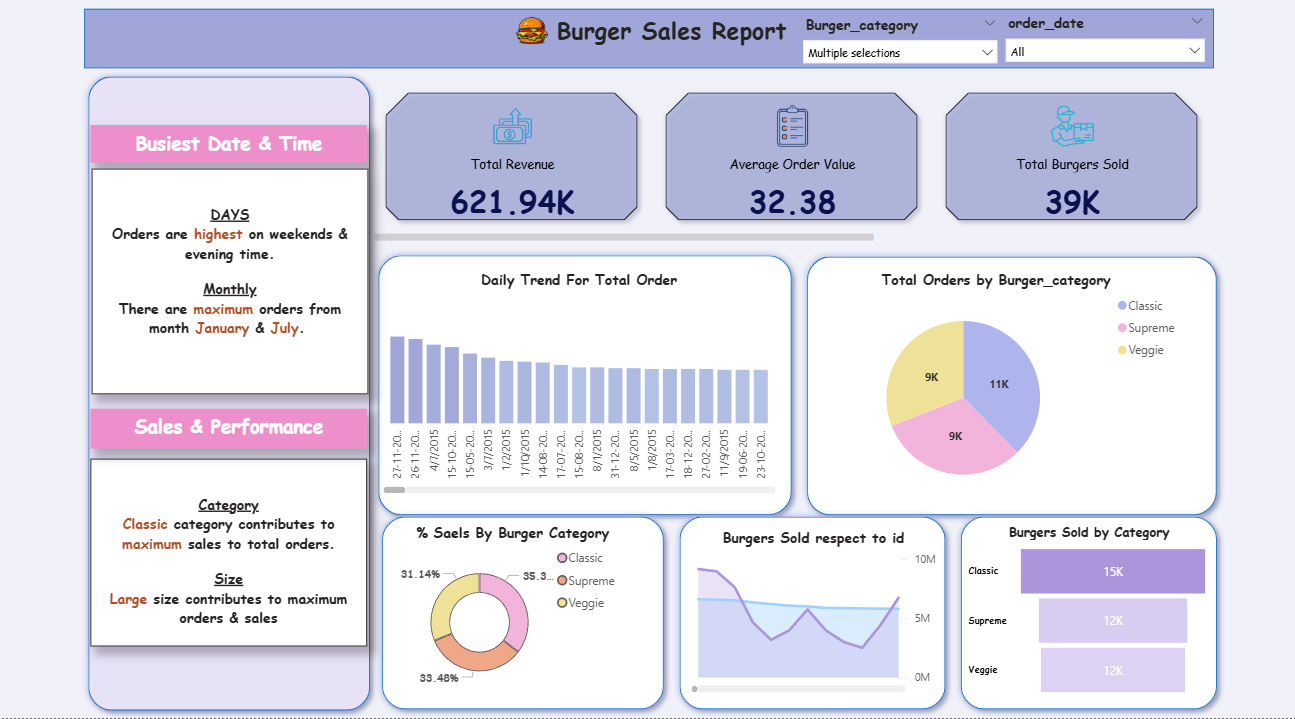

The dashboard page shown, as its layout file describes it:
{"tool":"powerbi","page":{"name":"Page 1","canvas":[1500,820],"ordinal":0},"visuals":[{"type":"cardVisual","fields":{"Data":["burger_sales burger_sales.Total Revenue","burger_sales burger_sales.Average Order Value","burger_sales burger_sales.Total Burgers Sold","burger_sales burger_sales.Total Orders","burger_sales burger_sales.Avg Burgers Per Order"]},"box":[431.7,89.1,963.7,193.6],"z":0},{"type":"shape","box":[104.5,9.7,1291,68.2],"z":1000},{"type":"textbox","box":[635.1,9.7,279.9,58.5],"z":2000},{"type":"image","box":[399.7,9.7,431.7,50.1],"z":3000},{"type":"shape","box":[431.7,282.7,490.2,314.7],"z":4000},{"type":"clusteredColumnChart","title":"Daily Trend For Total Order","fields":{"Category":["burger_sales burger_sales.order_date"],"Y":["burger_sales burger_sales.Total Orders"]},"box":[440.1,309.2,459.6,260.4],"z":5000},{"type":"shape","box":[921.9,284.1,486,313.4],"z":6000},{"type":"pieChart","fields":{"Y":["burger_sales burger_sales.Total Orders"],"Category":["burger_sales burger_sales.Burger_category"]},"box":[928.9,309.2,435.9,270.2],"z":7000},{"type":"shape","box":[435.9,582.1,339.8,238.1],"z":8000},{"type":"donutChart","title":"% Saels By Burger Category","fields":{"Y":["burger_sales burger_sales.Total Revenue"],"Category":["burger_sales burger_sales.Burger_category"]},"box":[462.4,597.5,261.8,206.1],"z":9000},{"type":"shape","box":[775.7,582.1,321.7,238.1],"z":10000},{"type":"shape","box":[1097.4,582.1,310.6,238.1],"z":11000},{"type":"areaChart","title":"Burgers Sold respect to id","fields":{"Y":["burger_sales burger_sales.Total Burgers Sold"],"Category":["burger_sales burger_sales.order_date"],"Y2":["Sum(burger_sales burger_sales.Burger_id)"]},"box":[792.4,603,289.7,193.6],"z":12000},{"type":"funnel","title":"Burgers Sold by Category","fields":{"Category":["burger_sales burger_sales.Burger_category"],"Y":["burger_sales burger_sales.Total Burgers Sold"]},"box":[1110,597.5,285.5,204.7],"z":13000},{"type":"shape","box":[100.3,78,339.8,742.3],"z":14000},{"type":"textbox","box":[111.4,143.4,316.1,43.2],"z":15000},{"type":"textbox","box":[112.8,192.2,316.1,257.6],"z":16000},{"type":"textbox","box":[111.4,523.6,316.1,214.5],"z":17000},{"type":"textbox","box":[111.4,466.5,316.1,46],"z":18000},{"type":"slicer","fields":{"Values":["burger_sales burger_sales.Burger_category"]},"box":[916.4,11.1,242.3,68.2],"z":19000},{"type":"slicer","fields":{"Values":["burger_sales burger_sales.order_date"]},"box":[1147.6,9.7,247.9,68.2],"z":20000}]}

Visuals, with their boxes in screenshot pixels (x1, y1, x2, y2), scaled from the page's 1500x820 canvas onto the 1295x719 screenshot:
cardVisual - burger_sales burger_sales.Total Revenue x burger_sales burger_sales.Average Order Value: Rect(373, 78, 1205, 248)
shape: Rect(90, 9, 1205, 68)
textbox: Rect(548, 9, 790, 60)
image: Rect(345, 9, 718, 52)
shape: Rect(373, 248, 796, 524)
"Daily Trend For Total Order" clusteredColumnChart: Rect(380, 271, 777, 499)
shape: Rect(796, 249, 1215, 524)
pieChart - burger_sales burger_sales.Total Orders x burger_sales burger_sales.Burger_category: Rect(802, 271, 1178, 508)
shape: Rect(376, 510, 670, 718)
"% Saels By Burger Category" donutChart: Rect(399, 524, 625, 705)
shape: Rect(670, 510, 947, 718)
shape: Rect(947, 510, 1216, 718)
"Burgers Sold respect to id" areaChart: Rect(684, 529, 934, 698)
"Burgers Sold by Category" funnel: Rect(958, 524, 1205, 703)
shape: Rect(87, 68, 380, 718)
textbox: Rect(96, 126, 369, 164)
textbox: Rect(97, 169, 370, 394)
textbox: Rect(96, 459, 369, 647)
textbox: Rect(96, 409, 369, 449)
slicer - burger_sales burger_sales.Burger_category: Rect(791, 10, 1000, 70)
slicer - burger_sales burger_sales.order_date: Rect(991, 9, 1205, 68)
